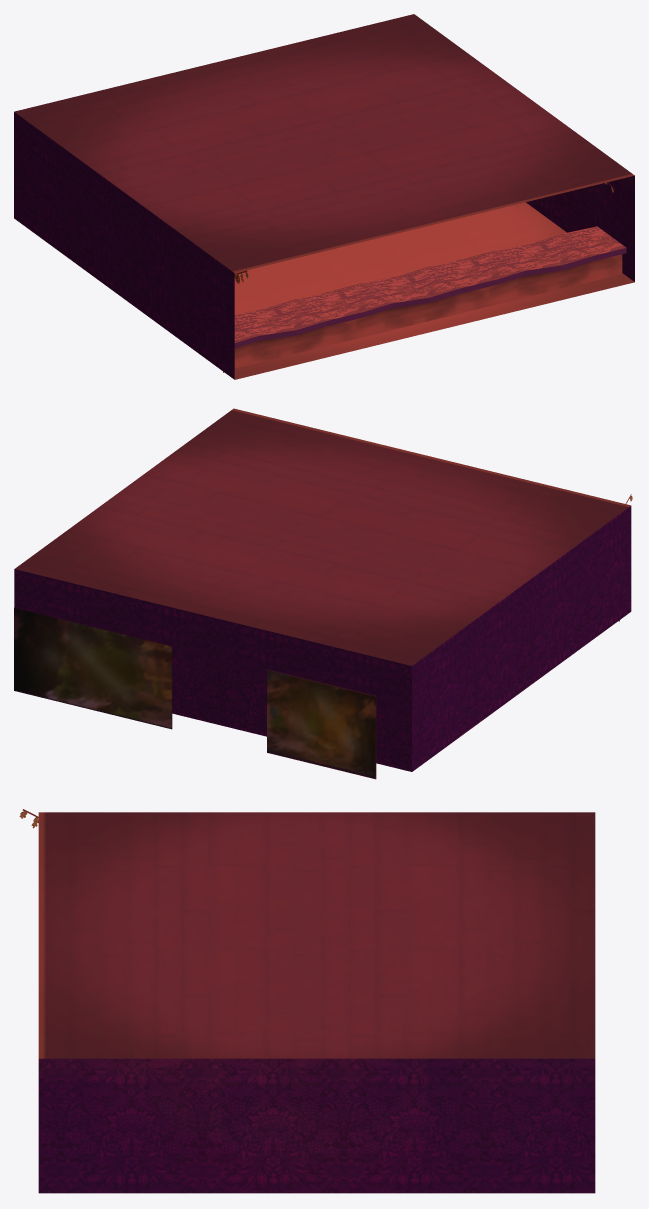
Rendered from environment.fbx.
3 views of the same model, one above another, from view 1: azimuth 30°, elevation 25°; view 2: azimuth 150°, elevation 25°; view 3: azimuth 270°, elevation 25° (orthographic). The views are drawn at different scales.
Visible parts, largest first — view 1: Room, CounterTop.002, CounterTop.001, CounterTop; view 2: Room, Doors&Windows; view 3: Room.
Boxes of the visible parts, x1=… form: Room: x1=14, y1=14, x2=634, y2=379; CounterTop.002: x1=464, y1=226, x2=626, y2=306; CounterTop.001: x1=331, y1=259, x2=493, y2=338; CounterTop: x1=223, y1=291, x2=360, y2=372; Room: x1=14, y1=408, x2=631, y2=771; Doors&Windows: x1=14, y1=608, x2=376, y2=779; Room: x1=38, y1=812, x2=595, y2=1193.
Bounding box in the file's own units: 15.7 × 4.29 × 16.73.
1 material, 1 textured.
